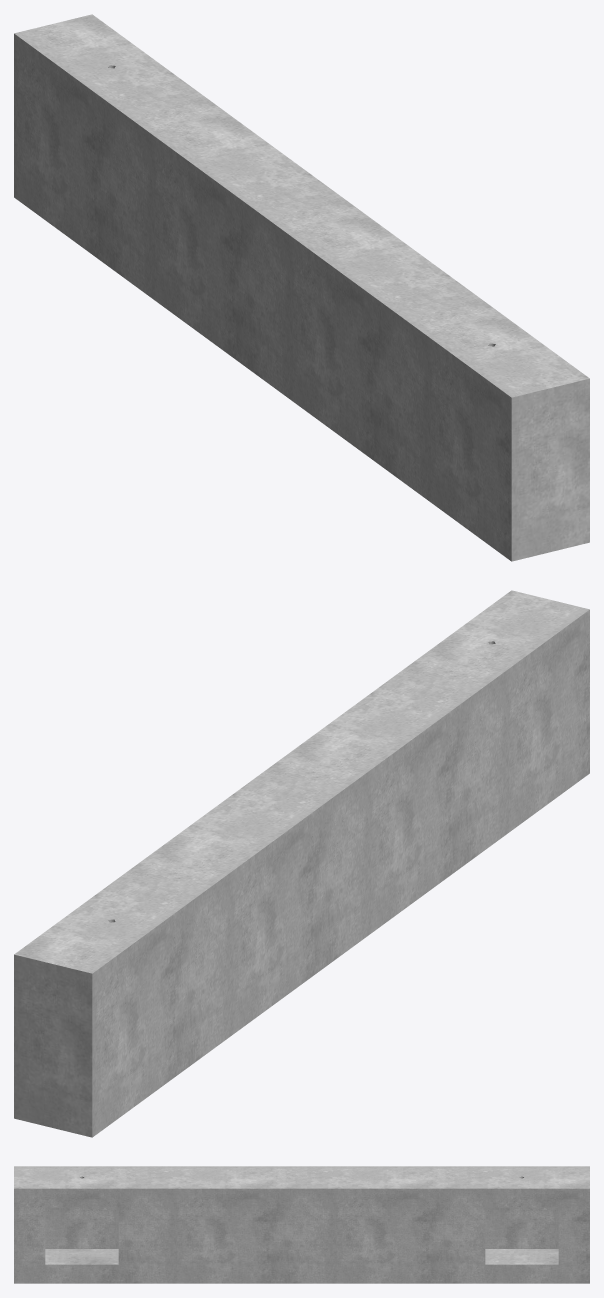
The picture shows the model from 3 angles, top to bottom: view 1: azimuth 30°, elevation 25°; view 2: azimuth 150°, elevation 25°; view 3: azimuth 270°, elevation 25°; orthographic projection. The views are drawn at different scales.
Visible parts, largest first — view 1: Sloof; view 2: Sloof; view 3: Sloof.
Boxes of the visible parts, x1=… form: Sloof: x1=14, y1=14, x2=589, y2=561; Sloof: x1=14, y1=590, x2=589, y2=1137; Sloof: x1=14, y1=1166, x2=589, y2=1283.
Size of the model in its own units: 0.3281 by 0.6562 by 3.61.
Materials: 1 (1 with a texture image).
